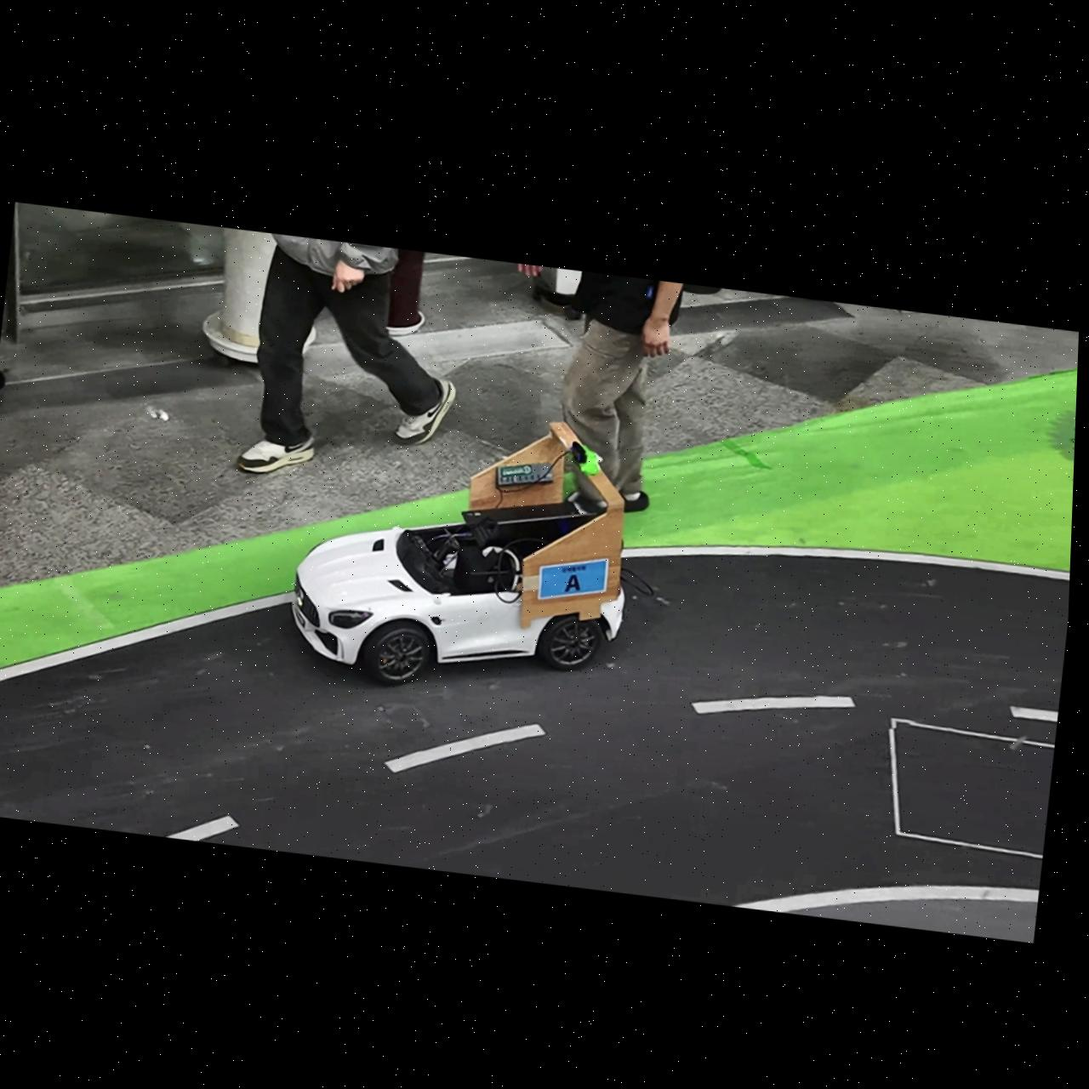broken_line: (384, 724, 546, 773), (691, 695, 856, 714), (166, 815, 239, 841), (1009, 706, 1058, 722)
